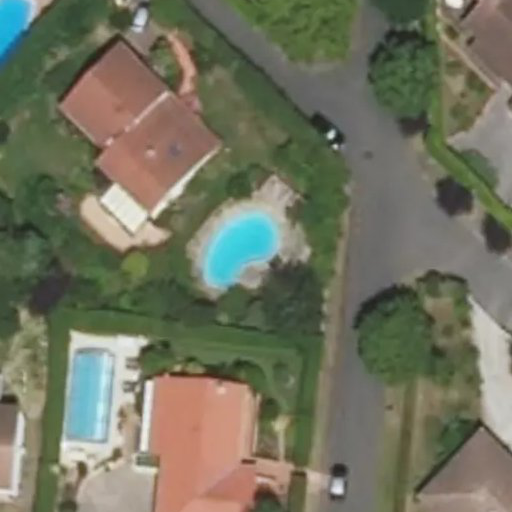pool: (203, 234, 304, 246)
